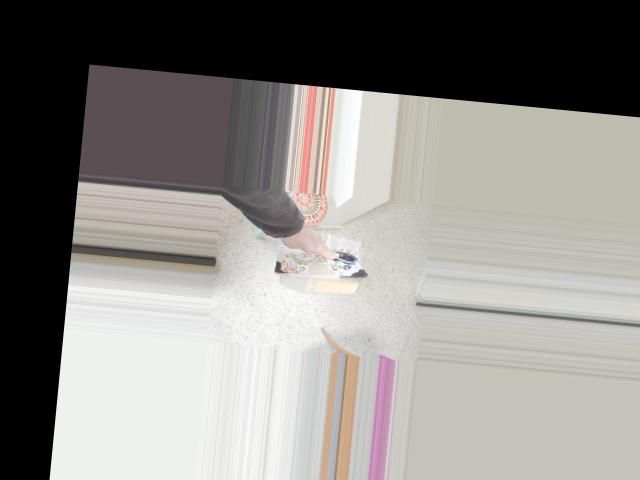cheese: (259, 221, 374, 322)
